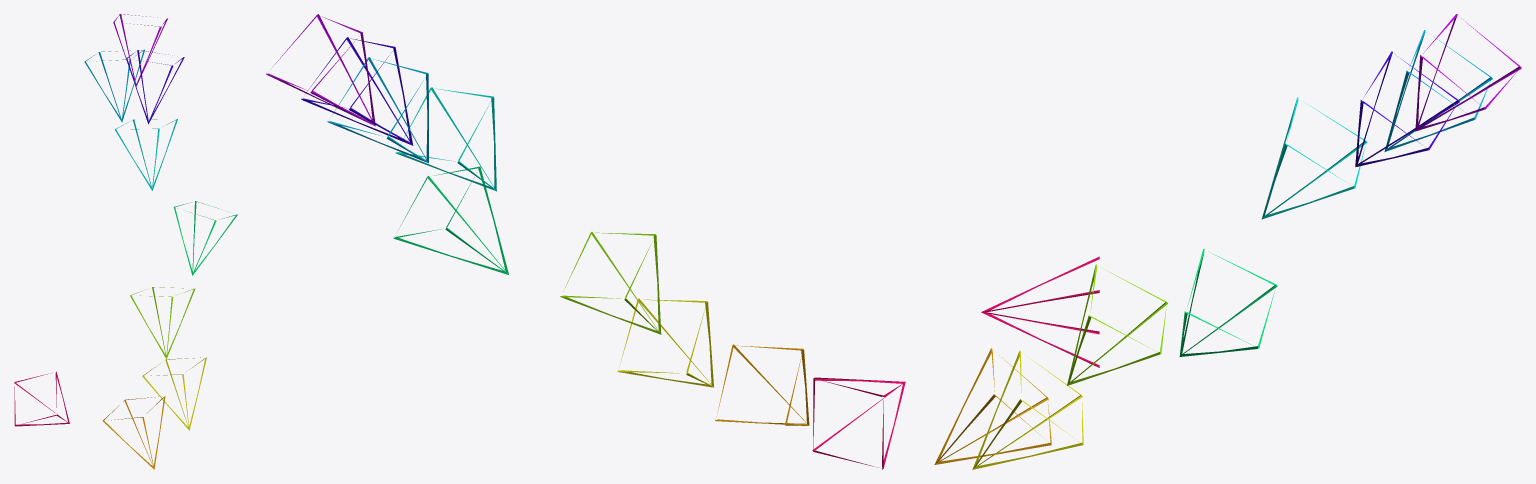
File: wrist_video_80.glb
The picture shows the model from 3 angles, left to right: view 1: azimuth 30°, elevation 25°; view 2: azimuth 150°, elevation 25°; view 3: azimuth 270°, elevation 25°; orthographic projection. The views are drawn at different scales.
Visible parts, largest first — view 1: world; view 2: world; view 3: world.
Boxes of the visible parts, left/top/right/bottom form: world: left=14, top=14, right=237, bottom=469; world: left=266, top=14, right=905, bottom=469; world: left=934, top=14, right=1521, bottom=469.
Size of the model in its own units: 0.5546 by 0.6493 by 0.6291.
